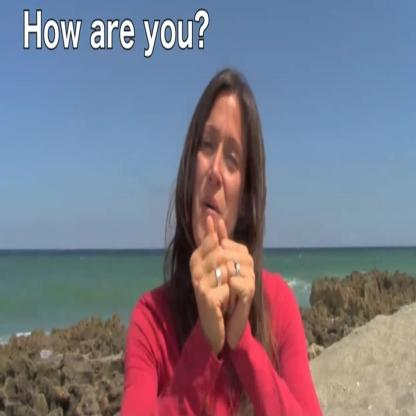HowAreYou: (187, 224, 257, 362)
